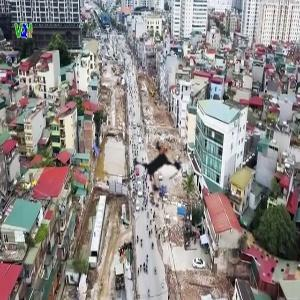drone: (97, 108, 214, 225)
